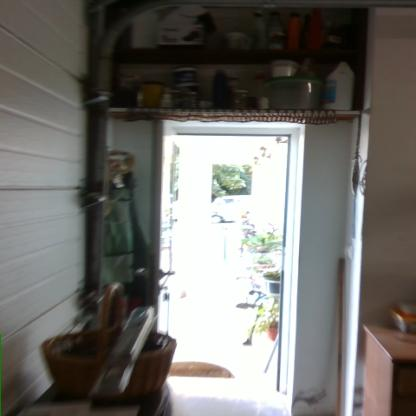open: (141, 111, 304, 407)
